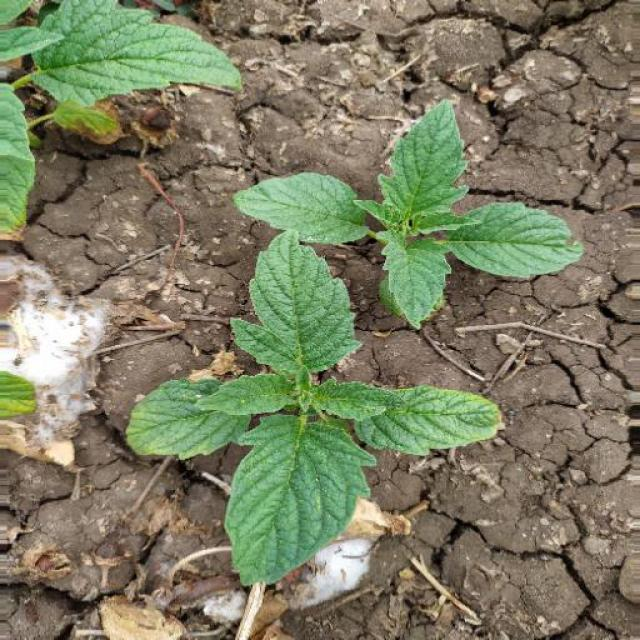crop: (126, 234, 502, 588), (236, 98, 584, 322)
